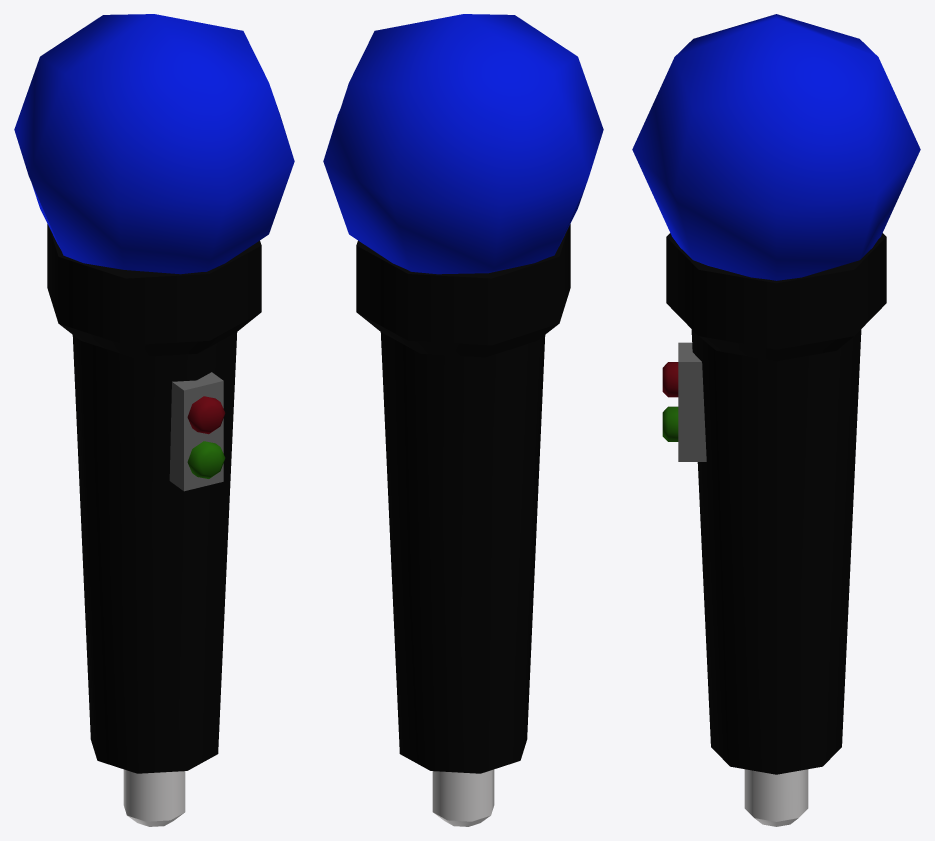
File: microphone_low.fbx
3 views of the same model, side by side, from view 1: azimuth 30°, elevation 25°; view 2: azimuth 150°, elevation 25°; view 3: azimuth 270°, elevation 25° (orthographic).
Parts seen in each view (by area): view 1: Cylinder.006; view 2: Cylinder.006; view 3: Cylinder.006.
Boxes of the visible parts, left/top/right/bottom form: Cylinder.006: left=14, top=14, right=294, bottom=826; Cylinder.006: left=323, top=14, right=603, bottom=826; Cylinder.006: left=632, top=14, right=920, bottom=826.
Bounding box in the file's own units: 51.33 × 157 × 51.33.
